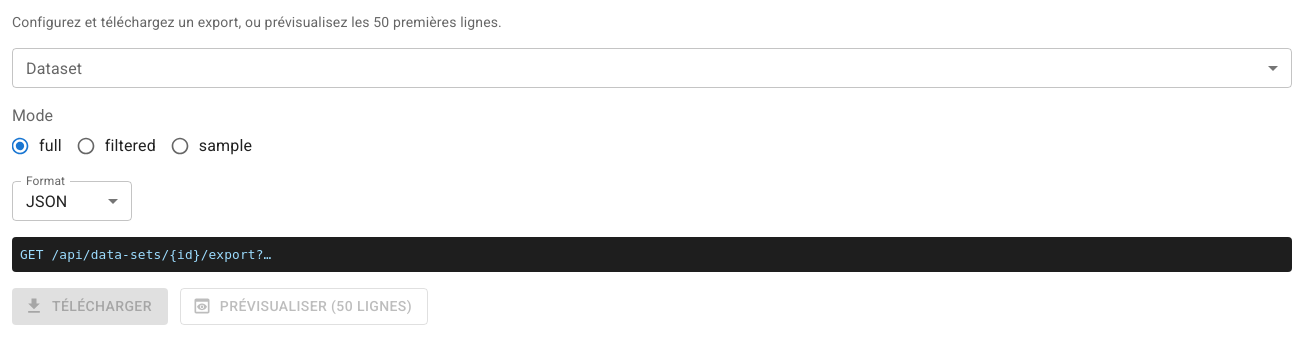
Test: ExtractionTab › shows count field when mode=sample
The width and height of the screenshot is (1292, 342).
Click the radio button labelled "sample": {"x": 211, "y": 146} x1=170 y1=136 x2=252 y2=156
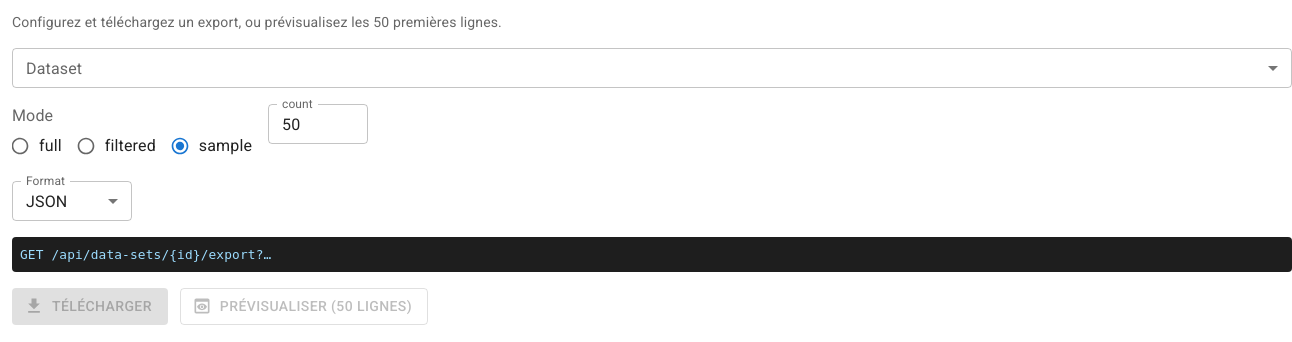
Now the number field labelled "count" is shown, box x1=268 y1=104 x2=368 y2=144
